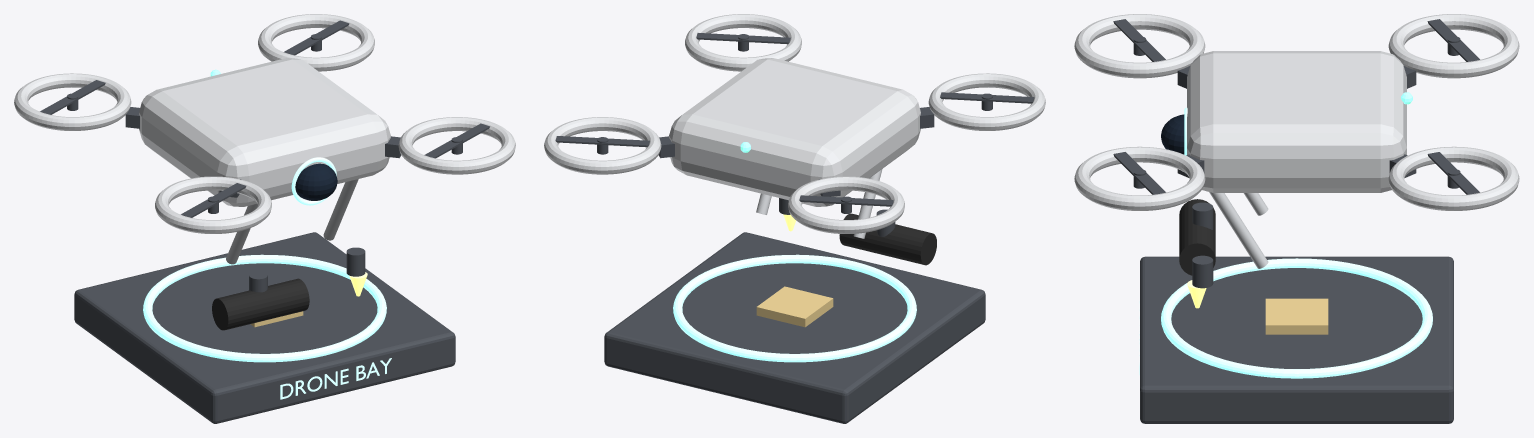
File: maintenance_drone.glb
The picture shows the model from 3 angles, left to right: view 1: azimuth 30°, elevation 25°; view 2: azimuth 150°, elevation 25°; view 3: azimuth 270°, elevation 25°; orthographic projection. The views are drawn at different scales.
Parts seen in each view (by area): view 1: Camera_Dome, Camera_Ring; view 2: Camera_Dome, Camera_Ring; view 3: Camera_Dome, Camera_Ring.
Part boxes in pixels (<box>): Camera_Dome: <box>14,14,515,423</box>; Camera_Ring: <box>143,157,391,399</box>; Camera_Dome: <box>544,14,1045,423</box>; Camera_Ring: <box>673,254,916,362</box>; Camera_Dome: <box>1074,14,1519,423</box>; Camera_Ring: <box>1139,107,1432,378</box>.
Bounding box in the file's own units: 0.85 × 0.57 × 0.85.
Materials: 4 (4 with a texture image).
